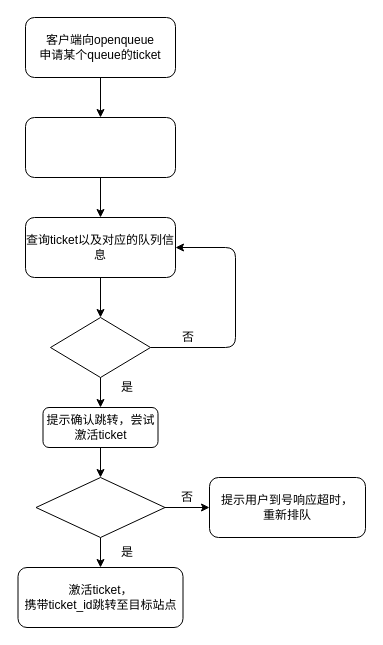
This 383x645 diagram has some shape labels left out. Each missing label, with the centre of its shape:
"在激活有效期内？" goes at (x=100, y=507).
"得到一个ticket_id" goes at (x=100, y=147).
"是否到号" goes at (x=100, y=347).
